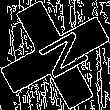N_SW: (23, 25, 87, 85)
